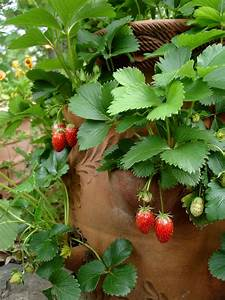Fresa: (131, 202, 157, 237), (152, 210, 175, 246), (63, 122, 83, 151), (49, 127, 70, 154)
